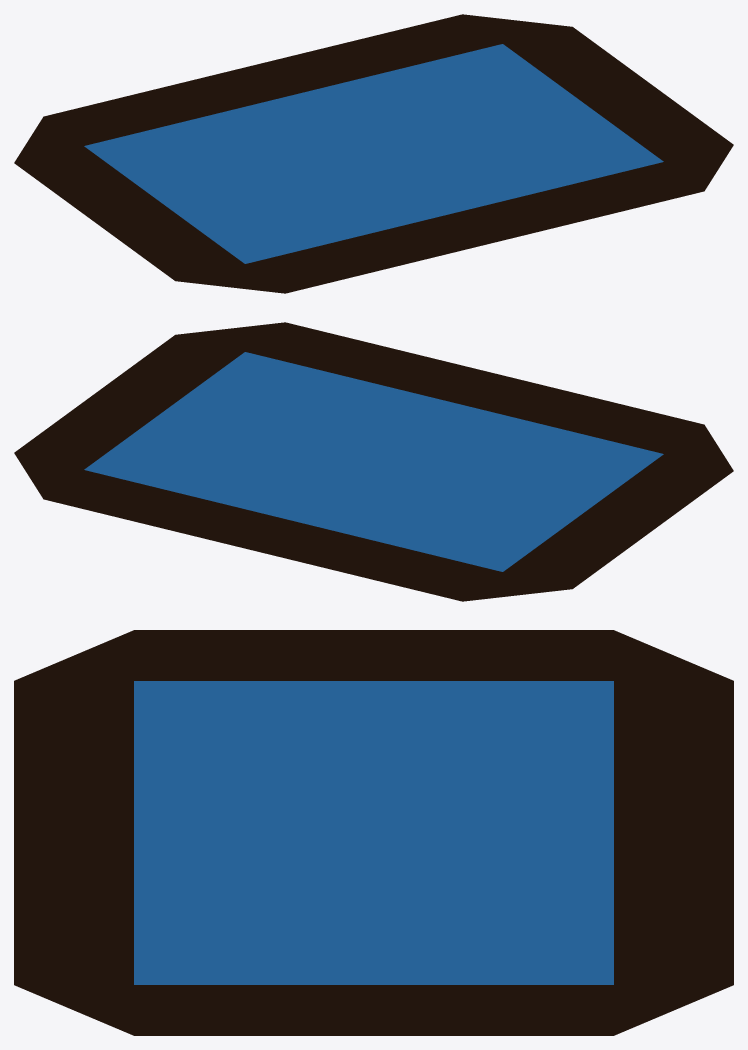
The model's file is ZoneInteraction.fbx.
3 views of the same model, one above another, from view 1: azimuth 30°, elevation 25°; view 2: azimuth 150°, elevation 25°; view 3: azimuth 270°, elevation 25° (orthographic). The views are drawn at different scales.
Visible parts, largest first — view 1: Plane; view 2: Plane; view 3: Plane.
Part boxes in pixels (box(x1,y1,x2,y2)): Plane: box(14, 14, 733, 293); Plane: box(14, 322, 733, 601); Plane: box(14, 630, 733, 1035).
Bounding box in the file's own units: 200 × 0 × 150.
